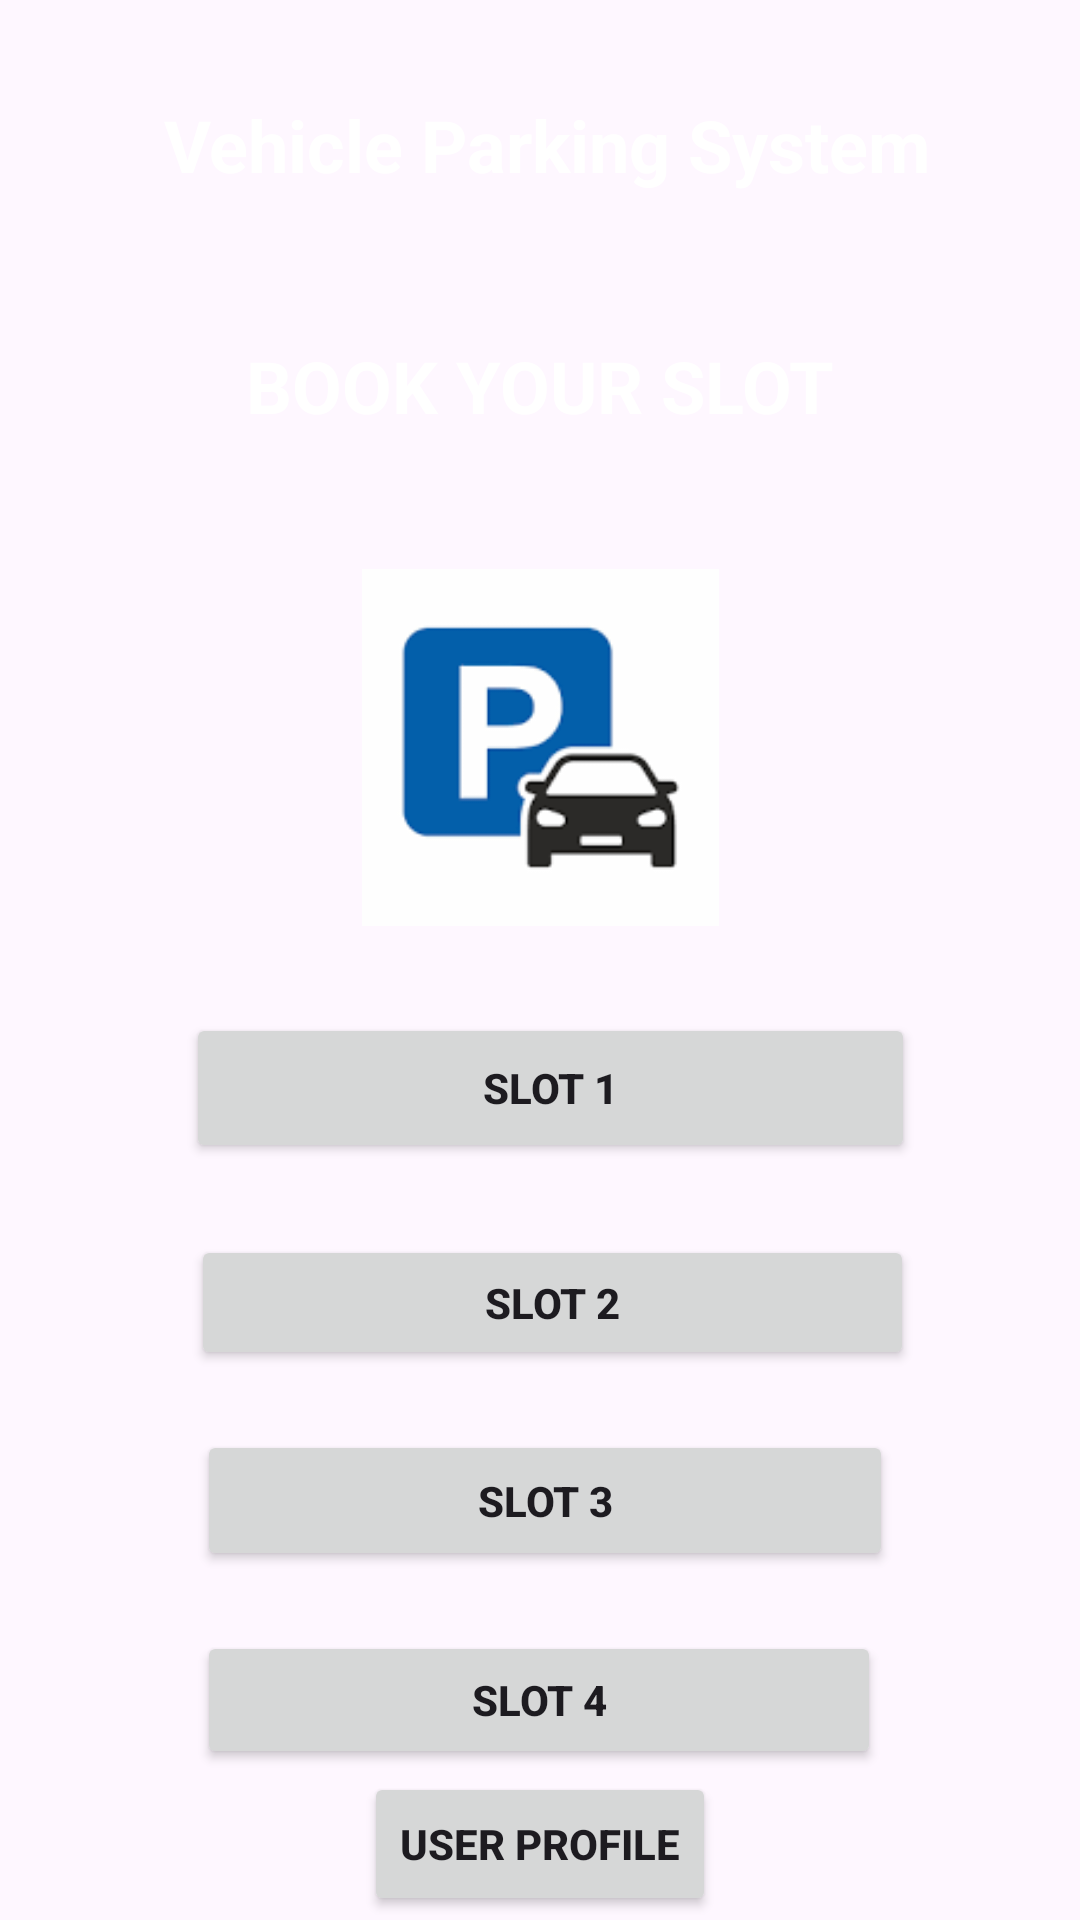

Icon click points for this 1080×1920 phone screenshot, format point (x, y):
vehicle: point (540, 747)
